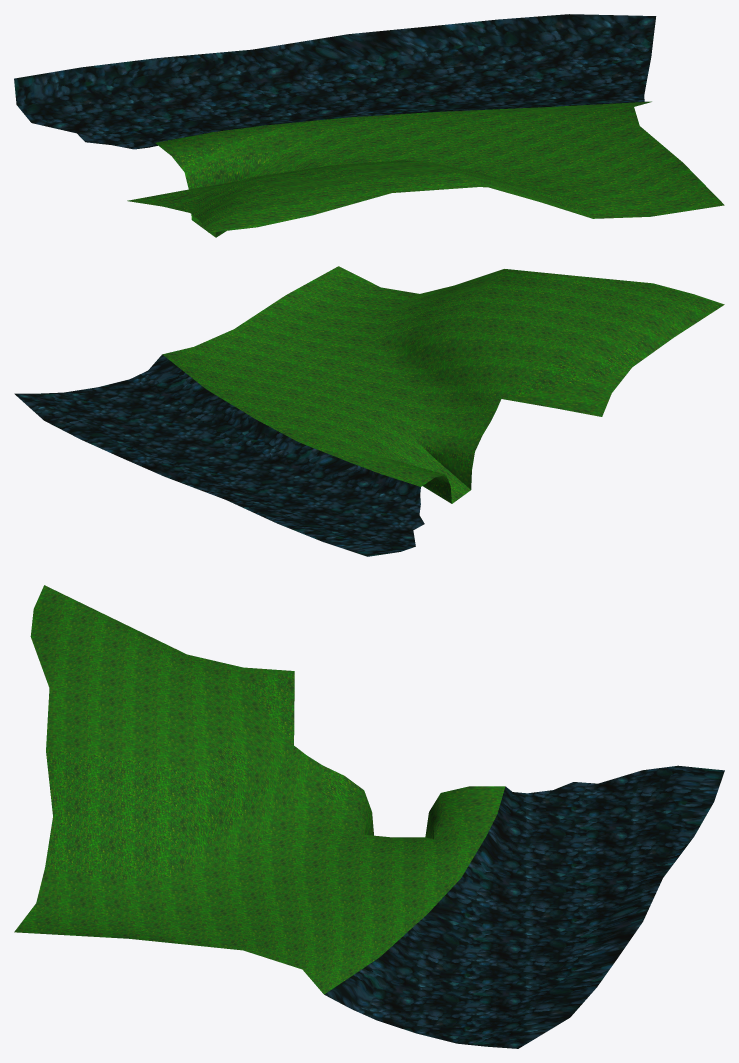
Rendered from HTOWN01_PS18.fbx.
The picture shows the model from 3 angles, top to bottom: view 1: azimuth 30°, elevation 25°; view 2: azimuth 150°, elevation 25°; view 3: azimuth 270°, elevation 25°; orthographic projection. The views are drawn at different scales.
Visible parts, largest first — view 1: HTOWN01_PS18; view 2: HTOWN01_PS18; view 3: HTOWN01_PS18.
Boxes of the visible parts, bbox=[...] form: HTOWN01_PS18: bbox=[14, 14, 724, 237]; HTOWN01_PS18: bbox=[14, 266, 724, 556]; HTOWN01_PS18: bbox=[14, 585, 724, 1048].
Size of the model in its own units: 505995 by 114703 by 439518.
Materials: 3 (3 with a texture image).
